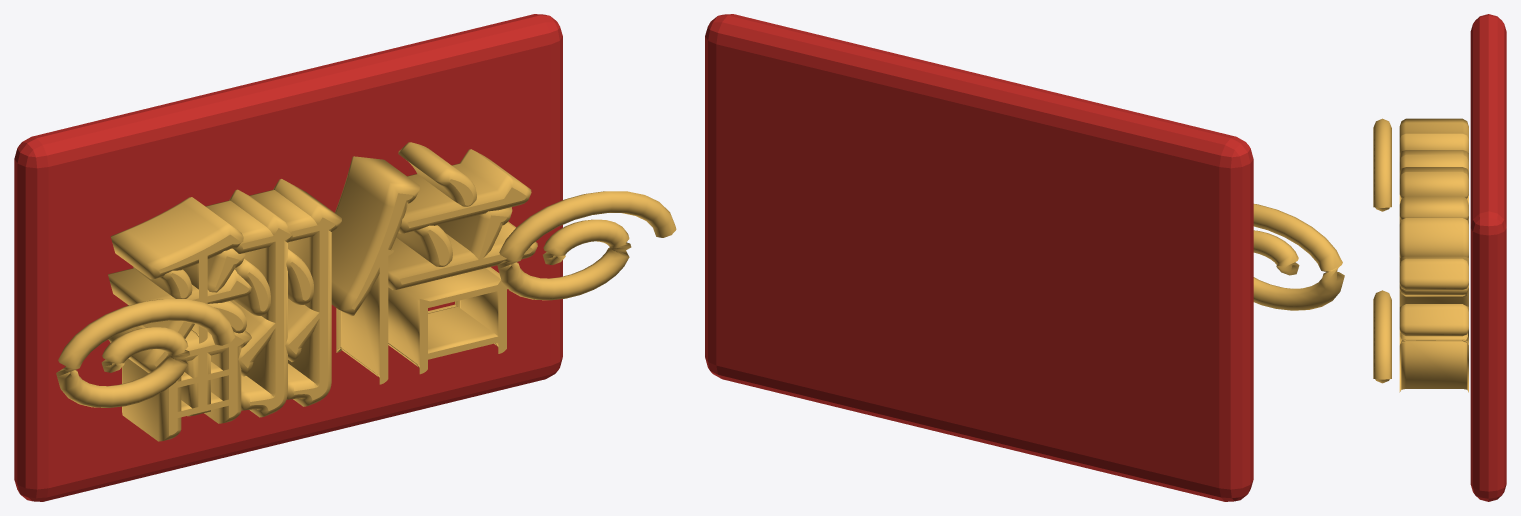
Rendered from word-double.glb.
The picture shows the model from 3 angles, left to right: view 1: azimuth 30°, elevation 25°; view 2: azimuth 150°, elevation 25°; view 3: azimuth 270°, elevation 25°; orthographic projection. The views are drawn at different scales.
Visible parts, largest first — view 1: word-double; view 2: word-double; view 3: word-double.
Part boxes in pixels (x1,y1,x2,y2): word-double: [14, 14, 676, 501]; word-double: [705, 14, 1344, 501]; word-double: [1373, 14, 1506, 501].
Bounding box in the file's own units: 1.1 × 0.6162 × 0.258.
